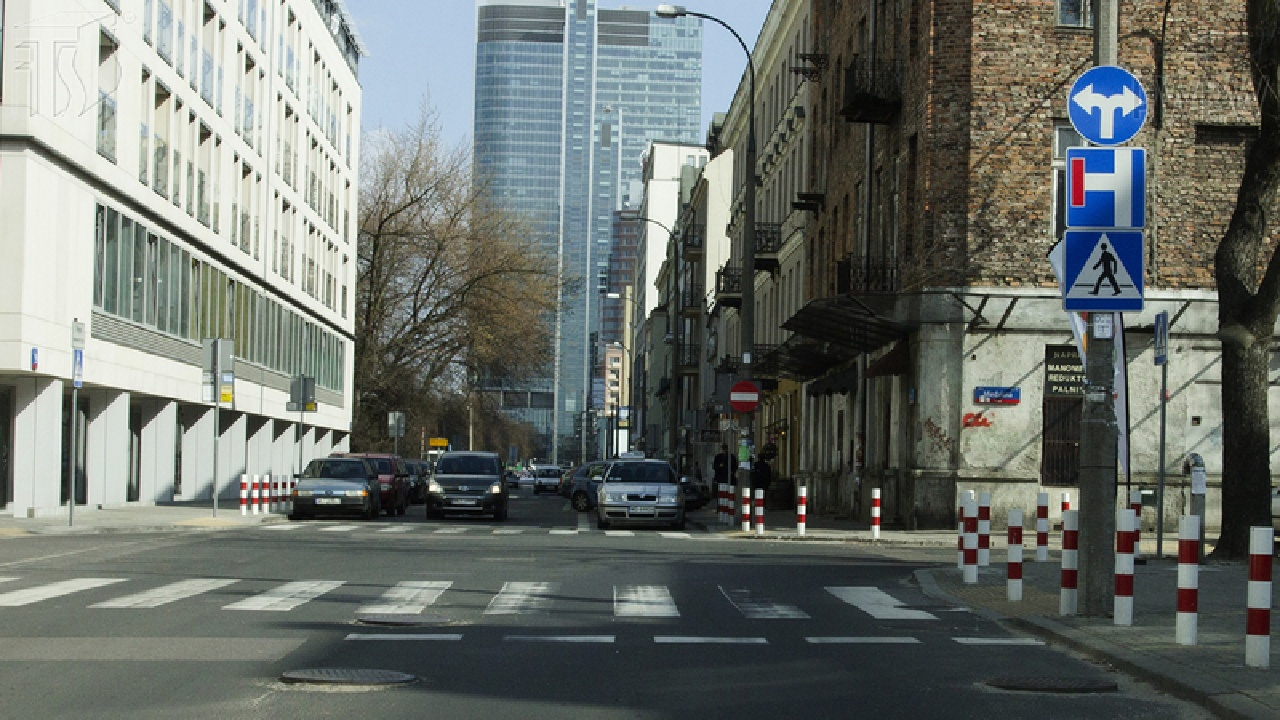B2: (729, 381, 760, 412)
C8: (1067, 66, 1149, 146)
D4a: (1067, 147, 1145, 229)
D6: (1063, 231, 1143, 311)
